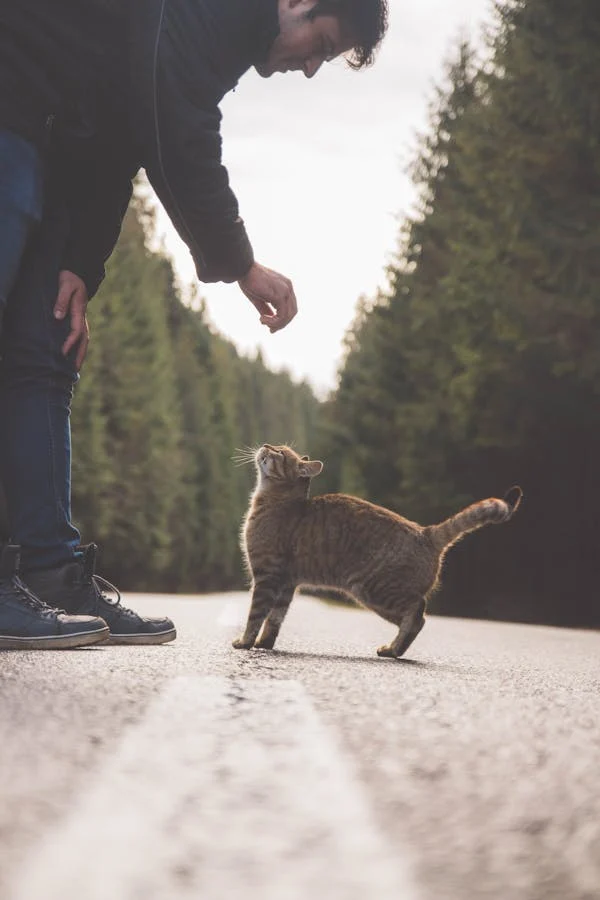Cat: (232, 440, 525, 658)
